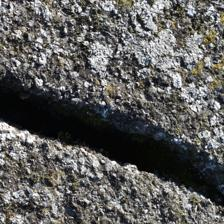Crack: (2, 31, 216, 180)
